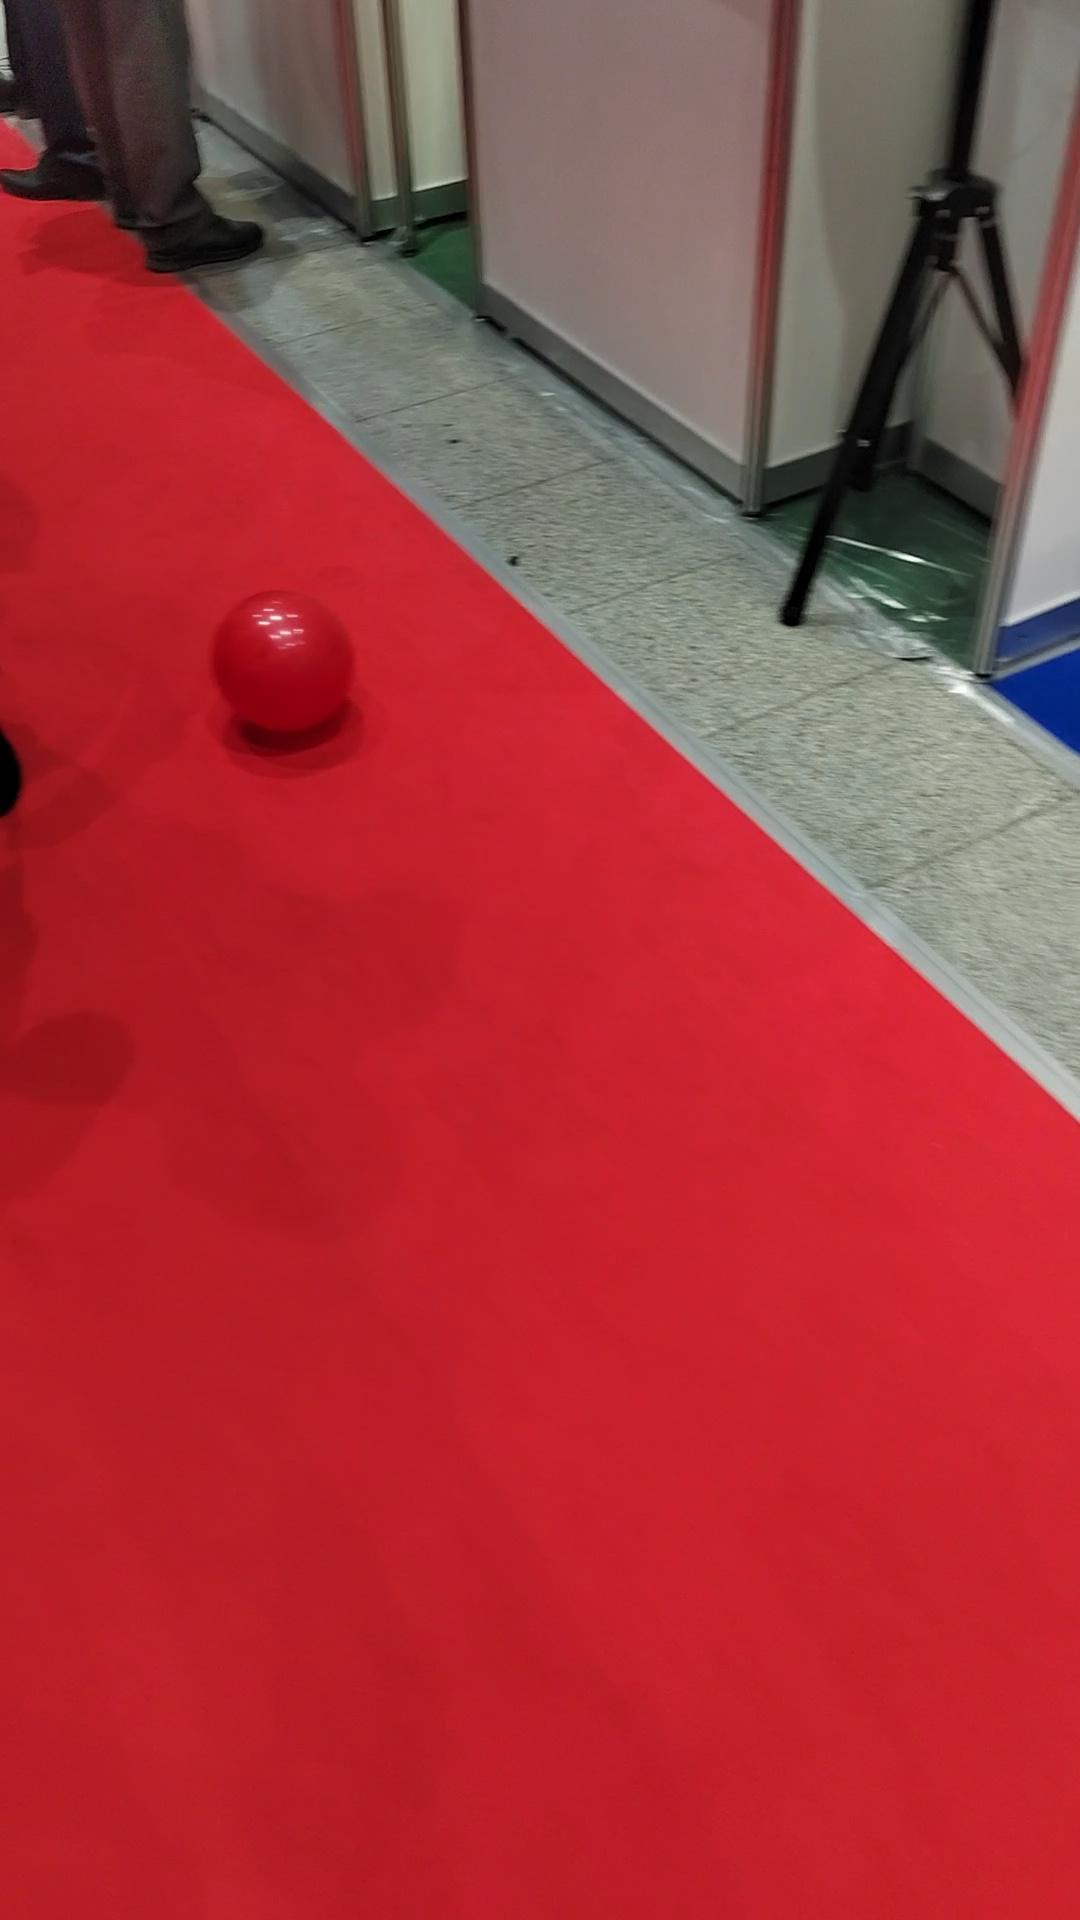red: (211, 591, 353, 735)
